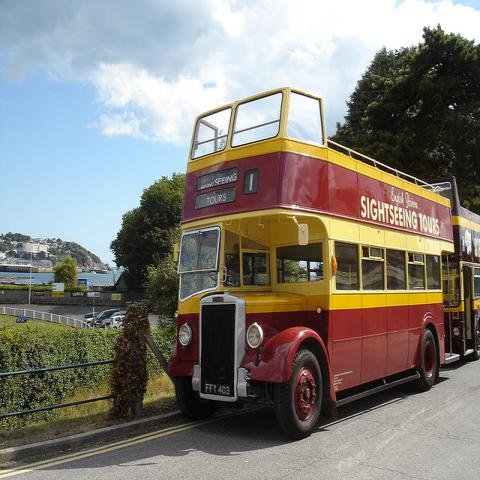bus: (168, 92, 455, 437), (433, 176, 479, 366)
car: (90, 307, 120, 329), (102, 309, 127, 328), (83, 312, 98, 326), (110, 315, 126, 328)
